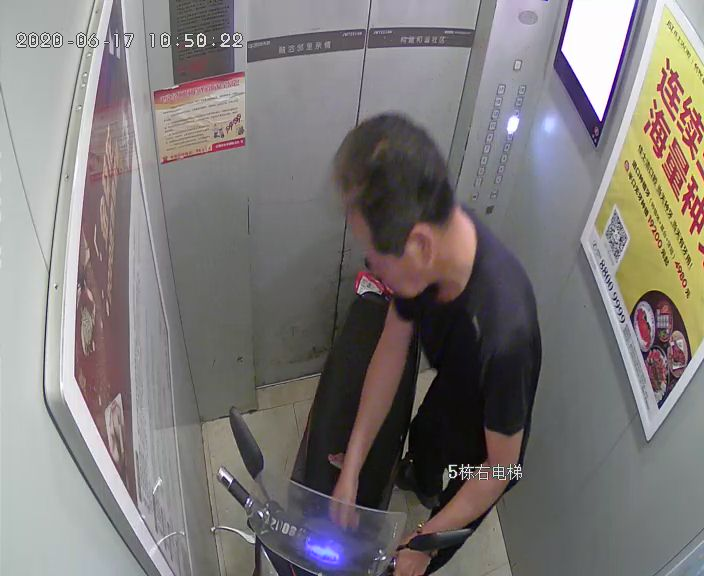Electric-bicycle: (208, 244, 469, 576)
